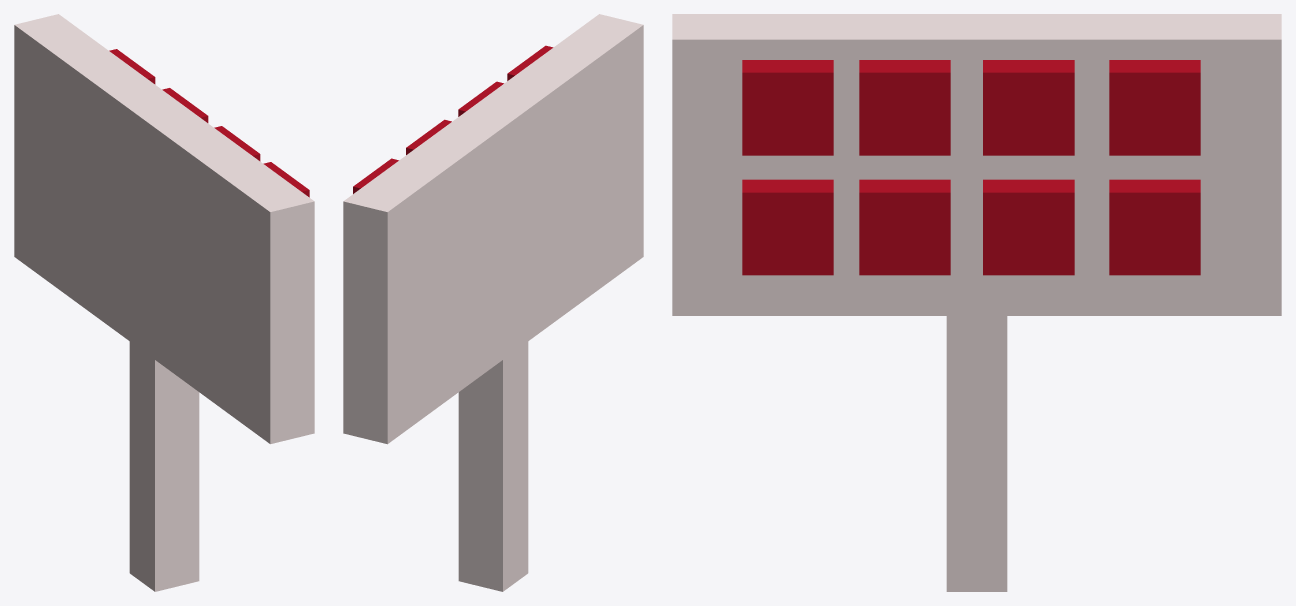
The model's file is ColorPuzzle.fbx.
3 views of the same model, side by side, from view 1: azimuth 30°, elevation 25°; view 2: azimuth 150°, elevation 25°; view 3: azimuth 270°, elevation 25° (orthographic). The views are drawn at different scales.
Parts seen in each view (by area): view 1: Cube.001, Cube; view 2: Cube.001, Cube; view 3: Cube.001, Cube, Cube.006, Cube.007, Cube.008, Cube.009, Cube.002, Cube.003, Cube.004, Cube.005.
Boxes of the visible parts, left/top/right/bottom form: Cube.001: left=14, top=14, right=314, bottom=444; Cube: left=129, top=341, right=199, bottom=591; Cube.001: left=343, top=14, right=643, bottom=444; Cube: left=458, top=341, right=528, bottom=591; Cube.001: left=672, top=14, right=1281, bottom=315; Cube: left=946, top=316, right=1007, bottom=591; Cube.006: left=742, top=179, right=833, bottom=275; Cube.007: left=859, top=179, right=950, bottom=275; Cube.008: left=983, top=179, right=1074, bottom=275; Cube.009: left=1109, top=179, right=1200, bottom=275; Cube.002: left=742, top=60, right=833, bottom=155; Cube.003: left=859, top=60, right=950, bottom=155; Cube.004: left=983, top=60, right=1074, bottom=155; Cube.005: left=1109, top=60, right=1200, bottom=155.
Bounding box in the file's own units: 0.3092 × 2 × 2.
